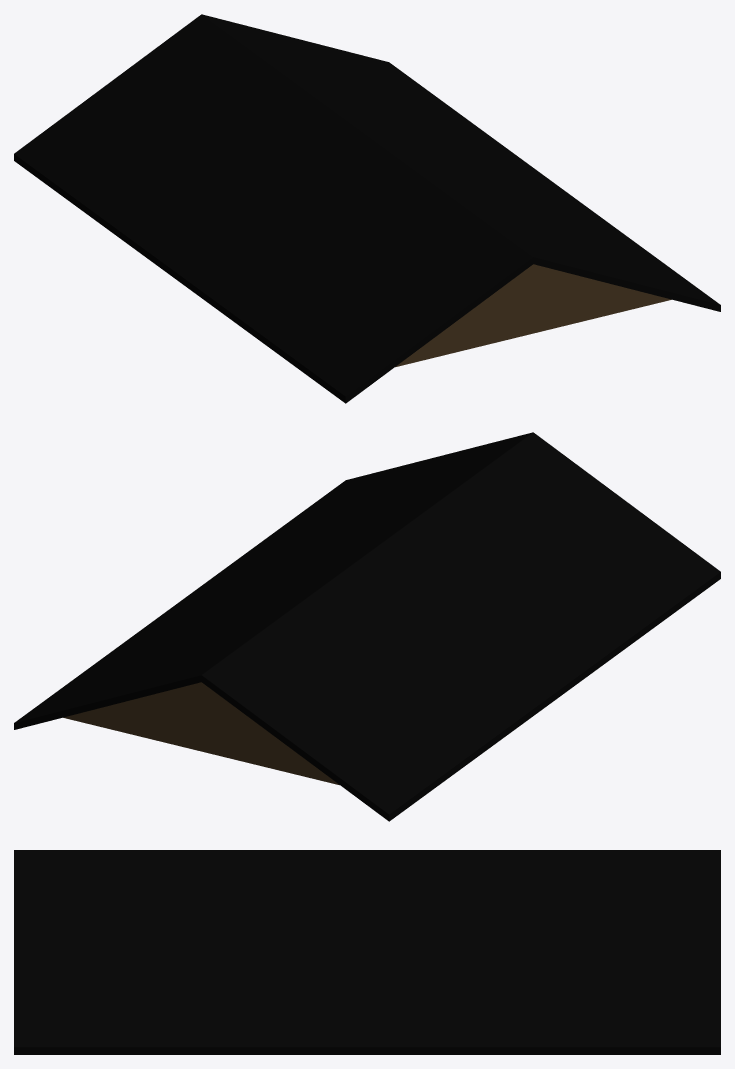
The model's file is roof.glb.
3 renders of one model, top to bottom at view 1: azimuth 30°, elevation 25°; view 2: azimuth 150°, elevation 25°; view 3: azimuth 270°, elevation 25°, orthographic. The views are drawn at different scales.
Parts seen in each view (by area): view 1: Roof.003; view 2: Roof.003; view 3: Roof.003.
Part boxes in pixels (box(x1,y1,x2,y2)): Roof.003: box(14, 14, 720, 403); Roof.003: box(14, 432, 720, 821); Roof.003: box(14, 850, 720, 1054).
Size of the model in its own units: 22.2 by 5.7 by 34.
1 material, 1 textured.
